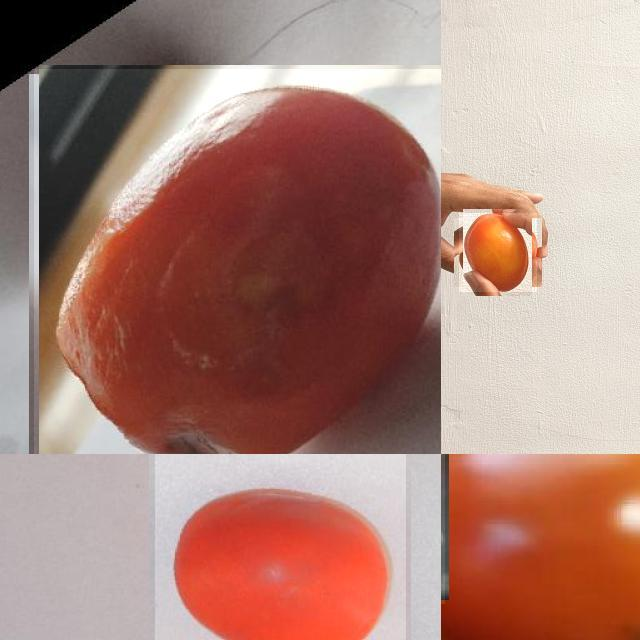Fresh Tomato: (154, 454, 406, 640), (441, 454, 640, 640), (459, 213, 537, 292)
Rotten Tomato: (33, 69, 441, 454)
